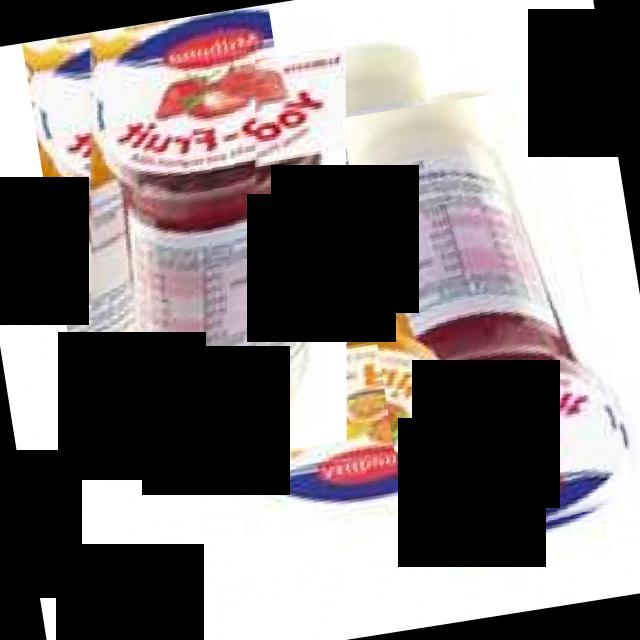yogurt: (22, 4, 337, 480), (185, 34, 488, 518), (342, 81, 640, 555)
